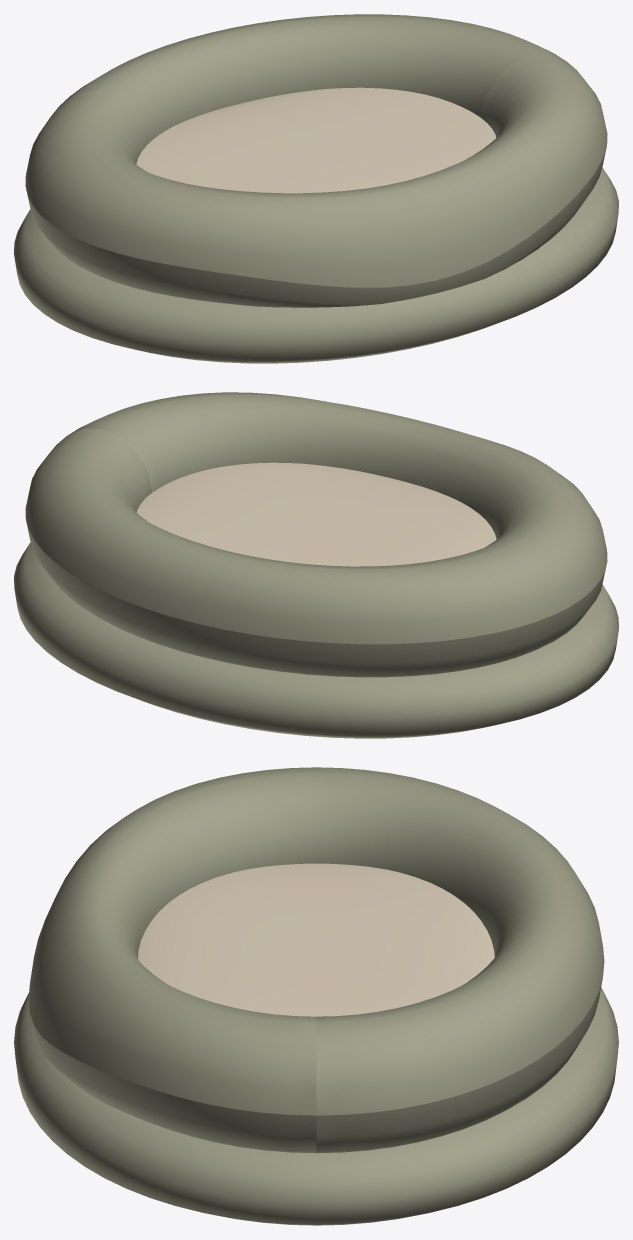
The model's file is petbed.glb.
3 views of the same model, one above another, from view 1: azimuth 30°, elevation 25°; view 2: azimuth 150°, elevation 25°; view 3: azimuth 270°, elevation 25° (orthographic). The views are drawn at different scales.
Parts seen in each view (by area): view 1: continuous-dipped-bolster, soft-grounded-pet-bed-base, inset-pet-mattress; view 2: continuous-dipped-bolster, soft-grounded-pet-bed-base, inset-pet-mattress; view 3: continuous-dipped-bolster, soft-grounded-pet-bed-base, inset-pet-mattress.
Part boxes in pixels (<box>): continuous-dipped-bolster: <box>25,14,607,307</box>; soft-grounded-pet-bed-base: <box>14,167,618,363</box>; inset-pet-mattress: <box>136,87,496,193</box>; continuous-dipped-bolster: <box>25,392,607,677</box>; soft-grounded-pet-bed-base: <box>14,542,618,738</box>; inset-pet-mattress: <box>136,462,496,566</box>; continuous-dipped-bolster: <box>28,767,604,1153</box>; soft-grounded-pet-bed-base: <box>14,987,618,1225</box>; inset-pet-mattress: <box>138,863,494,1016</box>.
Bounding box in the file's own units: 1 × 0.2652 × 0.8.
